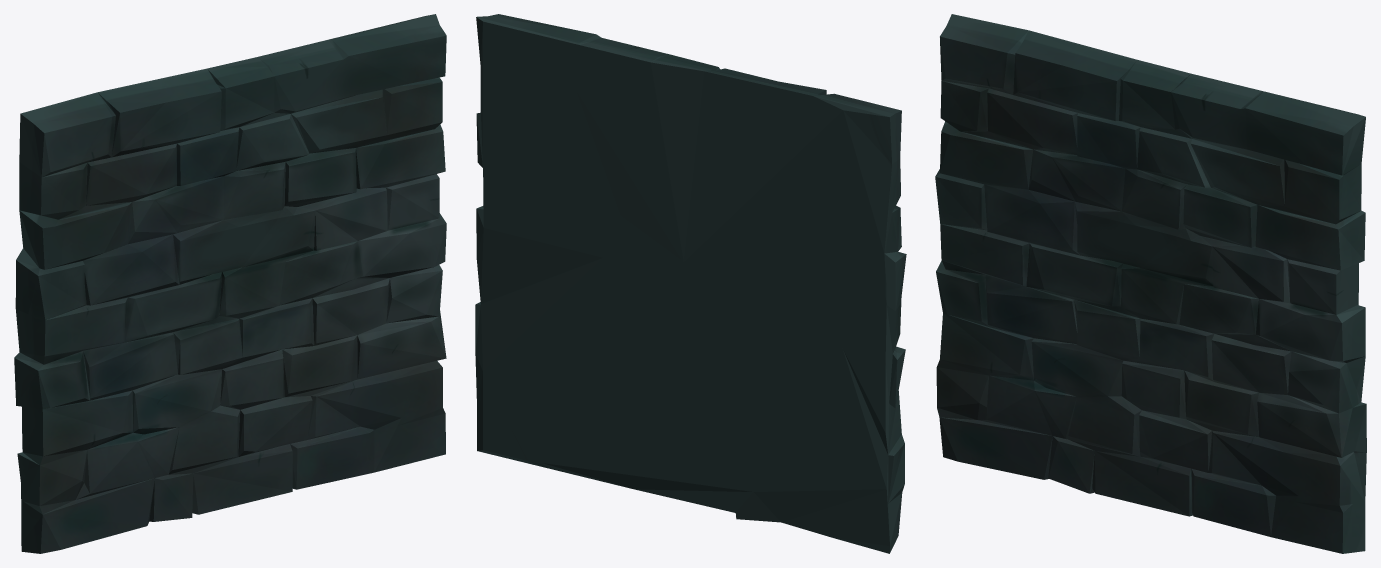
File: Wall_01.fbx
3 renders of one model, left to right at view 1: azimuth 30°, elevation 25°; view 2: azimuth 150°, elevation 25°; view 3: azimuth 330°, elevation 25°, orthographic.
Parts seen in each view (by area): view 1: Wall_01; view 2: Wall_01; view 3: Wall_01.
Boxes of the visible parts, box(x1,y1,x2,y2) form: Wall_01: box(14, 14, 446, 553); Wall_01: box(475, 14, 906, 553); Wall_01: box(935, 14, 1366, 553).
Bounding box in the file's own units: 5.24 × 5.24 × 0.43.
1 material, 1 textured.
